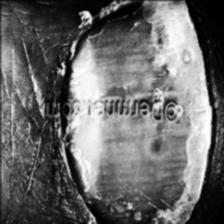Toxin: (140, 0, 210, 99), (151, 131, 199, 224)
